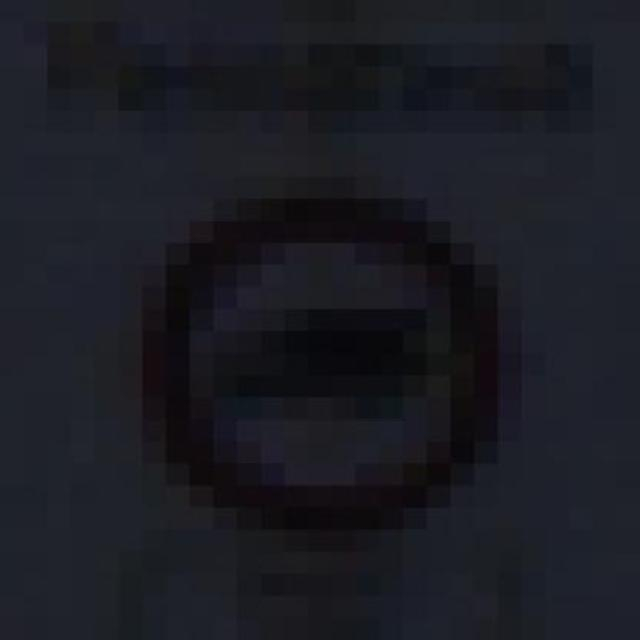Truck traffic is prohibited: (72, 154, 546, 552)
